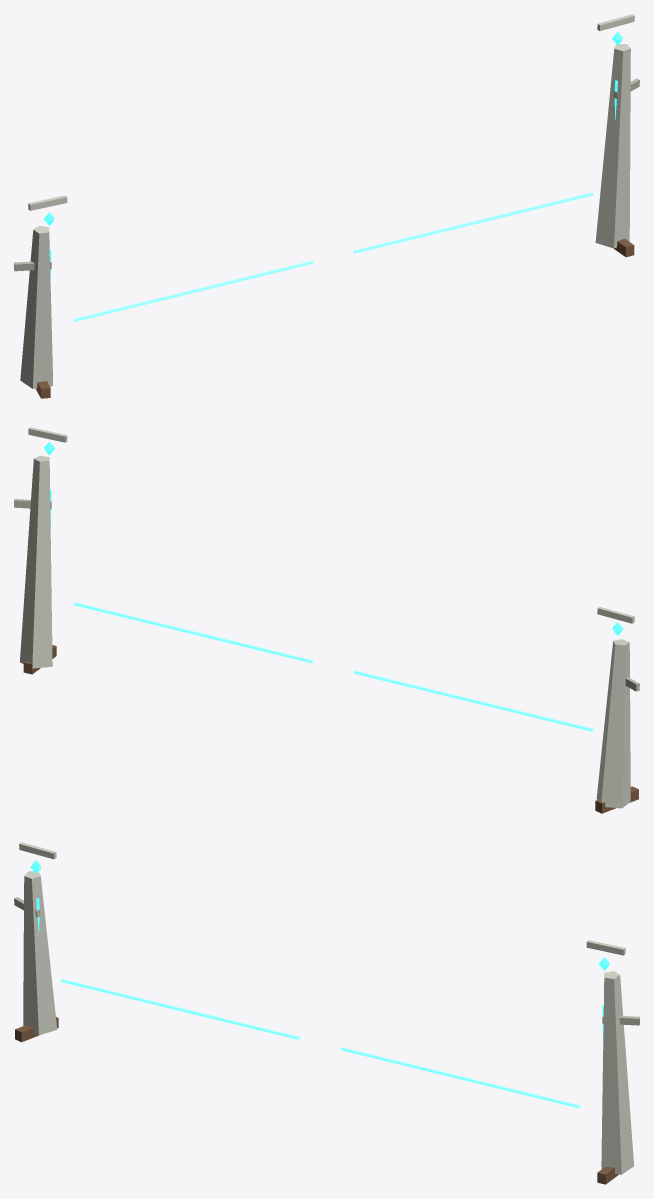
The model's file is elarthalas_ward_monoliths.glb.
3 views of the same model, one above another, from view 1: azimuth 30°, elevation 25°; view 2: azimuth 150°, elevation 25°; view 3: azimuth 330°, elevation 25° (orthographic).
Parts seen in each view (by area): view 1: PREFAB_elarthalas_ward_monoliths_07_ELAR_WardsAndProps_Wardl, PREFAB_elarthalas_ward_monoliths_00_ELAR_WardsAndProps_Wardl, PREFAB_elarthalas_ward_monoliths_04_ELAR_WardsAndProps_Wardl, PREFAB_elarthalas_ward_monoliths_11_ELAR_WardsAndProps_Wardl; view 2: PREFAB_elarthalas_ward_monoliths_07_ELAR_WardsAndProps_Wardl, PREFAB_elarthalas_ward_monoliths_00_ELAR_WardsAndProps_Wardl, PREFAB_elarthalas_ward_monoliths_04_ELAR_WardsAndProps_Wardl, PREFAB_elarthalas_ward_monoliths_11_ELAR_WardsAndProps_Wardl; view 3: PREFAB_elarthalas_ward_monoliths_07_ELAR_WardsAndProps_Wardl, PREFAB_elarthalas_ward_monoliths_00_ELAR_WardsAndProps_Wardl, PREFAB_elarthalas_ward_monoliths_04_ELAR_WardsAndProps_Wardl, PREFAB_elarthalas_ward_monoliths_11_ELAR_WardsAndProps_Wardl.
Part boxes in pixels (x1,y1,x2,y2): PREFAB_elarthalas_ward_monoliths_07_ELAR_WardsAndProps_Wardl: (595, 44, 630, 248); PREFAB_elarthalas_ward_monoliths_00_ELAR_WardsAndProps_Wardl: (20, 225, 52, 388); PREFAB_elarthalas_ward_monoliths_04_ELAR_WardsAndProps_Wardl: (74, 260, 313, 321); PREFAB_elarthalas_ward_monoliths_11_ELAR_WardsAndProps_Wardl: (354, 192, 593, 253); PREFAB_elarthalas_ward_monoliths_07_ELAR_WardsAndProps_Wardl: (20, 456, 52, 668); PREFAB_elarthalas_ward_monoliths_00_ELAR_WardsAndProps_Wardl: (596, 639, 630, 808); PREFAB_elarthalas_ward_monoliths_04_ELAR_WardsAndProps_Wardl: (354, 670, 593, 731); PREFAB_elarthalas_ward_monoliths_11_ELAR_WardsAndProps_Wardl: (74, 602, 313, 663); PREFAB_elarthalas_ward_monoliths_07_ELAR_WardsAndProps_Wardl: (601, 971, 633, 1174); PREFAB_elarthalas_ward_monoliths_00_ELAR_WardsAndProps_Wardl: (23, 871, 57, 1035); PREFAB_elarthalas_ward_monoliths_04_ELAR_WardsAndProps_Wardl: (60, 979, 299, 1039); PREFAB_elarthalas_ward_monoliths_11_ELAR_WardsAndProps_Wardl: (340, 1047, 579, 1108).
Bounding box in the file's own units: 13.18 × 4.65 × 0.9324.
